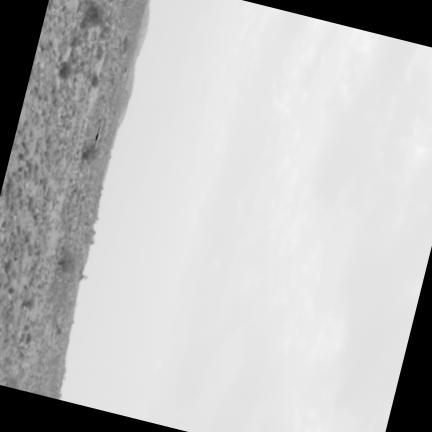Shahed: (92, 123, 101, 150)
